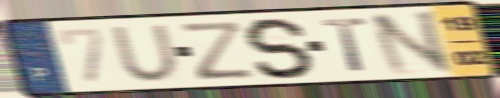7: (53, 26, 107, 86)
N: (366, 7, 456, 77)
S: (242, 16, 318, 81)
T: (319, 16, 371, 74)
U: (107, 22, 185, 84)
Z: (177, 19, 258, 82)
